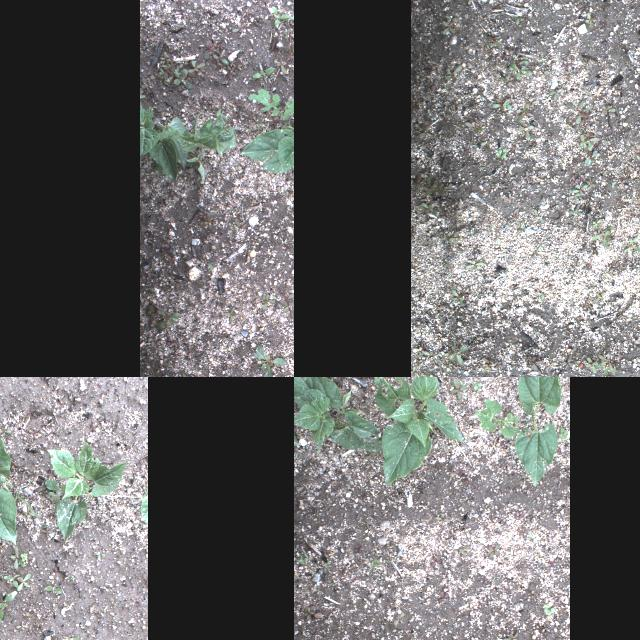crop: (374, 377, 462, 484), (47, 441, 127, 544), (294, 377, 381, 454), (514, 377, 562, 490), (241, 106, 294, 207), (175, 110, 235, 186), (140, 105, 190, 183), (0, 413, 16, 545), (475, 398, 521, 438), (140, 487, 148, 525)
weed: (155, 51, 205, 89), (244, 85, 294, 121), (251, 339, 286, 377), (14, 481, 42, 523), (199, 42, 231, 66), (248, 62, 276, 86), (508, 54, 532, 82), (364, 556, 392, 580), (592, 218, 614, 248), (565, 102, 591, 125), (150, 310, 178, 330), (270, 6, 294, 29), (44, 478, 74, 496), (0, 591, 17, 622), (578, 132, 600, 154), (448, 341, 467, 365), (224, 60, 246, 80), (596, 353, 616, 375), (449, 377, 468, 400), (426, 180, 446, 198), (260, 292, 276, 314), (623, 236, 640, 255), (202, 210, 216, 233), (444, 66, 461, 84), (281, 292, 294, 315), (582, 151, 600, 167), (518, 122, 534, 140), (16, 572, 32, 590), (486, 542, 502, 560), (455, 468, 473, 484), (273, 57, 287, 77), (10, 548, 24, 568), (432, 514, 452, 528), (436, 587, 450, 607), (418, 123, 434, 139), (421, 202, 437, 218), (542, 602, 558, 618), (456, 544, 472, 560), (279, 25, 294, 42), (242, 7, 260, 21), (442, 17, 456, 35), (516, 103, 530, 121), (568, 188, 582, 206), (450, 288, 464, 306), (492, 98, 512, 110), (464, 122, 484, 134), (570, 184, 590, 196), (3, 574, 20, 588), (584, 357, 598, 373), (394, 614, 408, 630), (294, 550, 308, 566), (304, 606, 318, 622), (428, 553, 442, 569), (584, 10, 596, 28), (464, 260, 484, 270), (548, 558, 558, 578), (548, 88, 562, 102), (482, 358, 496, 372), (21, 506, 35, 520), (532, 208, 544, 224), (416, 178, 432, 190), (355, 544, 367, 560), (486, 36, 500, 49), (530, 356, 544, 369), (228, 24, 246, 34), (411, 346, 429, 356), (45, 584, 63, 594), (40, 526, 54, 538), (503, 631, 521, 640), (481, 138, 494, 150), (594, 291, 606, 303), (448, 232, 460, 244), (471, 380, 483, 392), (335, 566, 347, 578), (0, 424, 11, 437), (602, 106, 616, 116), (569, 208, 583, 218), (494, 74, 508, 84), (512, 510, 526, 520), (484, 574, 498, 584), (522, 170, 532, 183), (516, 220, 524, 236), (631, 147, 640, 161), (582, 58, 592, 70), (543, 65, 555, 75), (565, 120, 575, 132), (531, 246, 541, 258), (437, 351, 447, 363), (568, 348, 578, 360), (544, 361, 556, 371), (526, 531, 536, 543), (319, 556, 331, 566), (481, 506, 493, 516), (500, 582, 510, 594), (363, 453, 377, 461), (563, 357, 573, 368), (514, 16, 524, 26), (506, 76, 516, 86), (496, 148, 506, 158), (535, 292, 545, 302), (442, 362, 452, 372), (30, 428, 40, 438), (530, 496, 540, 506), (494, 486, 504, 496), (564, 70, 572, 82), (587, 178, 595, 190), (445, 184, 453, 196), (560, 428, 568, 440), (45, 493, 55, 502), (632, 195, 640, 206), (49, 492, 60, 500), (413, 178, 419, 192), (22, 409, 28, 423), (562, 62, 572, 70), (528, 101, 538, 109), (443, 232, 451, 242), (16, 624, 28, 630), (490, 54, 500, 61), (19, 552, 26, 562), (451, 104, 462, 110), (488, 61, 496, 69), (326, 580, 334, 588), (508, 192, 514, 202), (412, 366, 418, 376), (598, 346, 604, 356), (484, 44, 491, 52), (584, 264, 592, 270), (618, 180, 626, 186), (600, 170, 608, 176), (570, 177, 578, 183), (510, 142, 516, 150), (537, 0, 547, 4), (467, 0, 475, 5), (582, 302, 588, 308), (96, 554, 105, 558), (69, 637, 79, 640), (501, 10, 505, 16), (70, 576, 76, 580), (44, 524, 48, 528), (612, 182, 614, 186)
